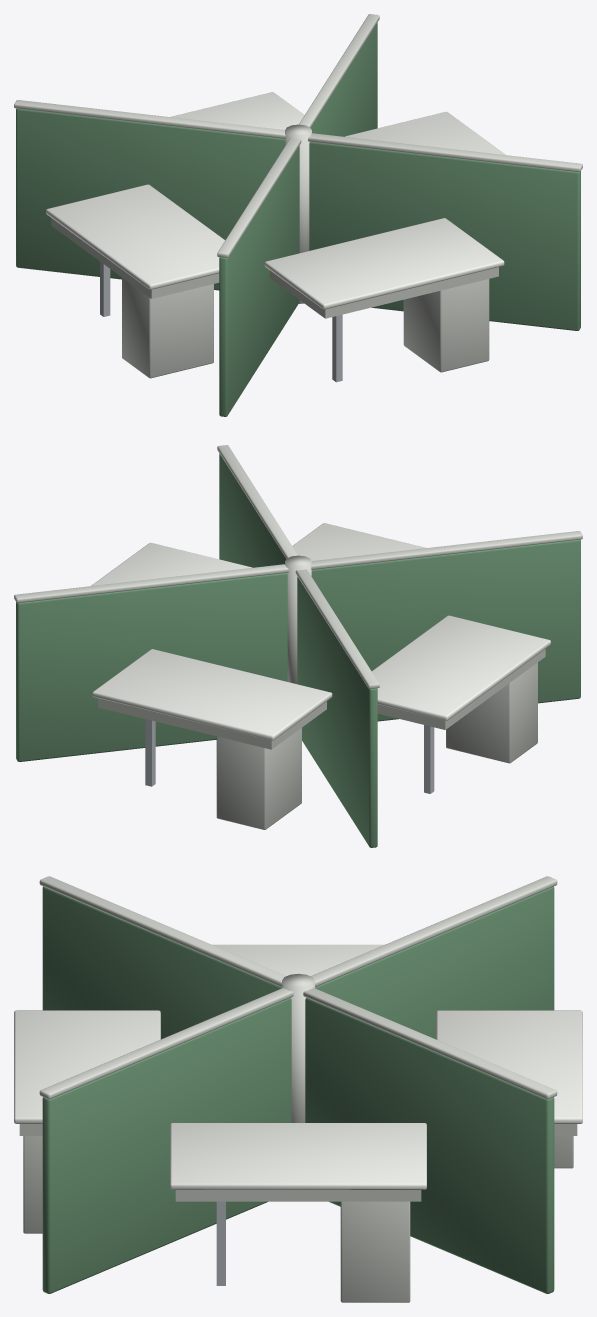
The model's file is desk_pod.gltf.
The picture shows the model from 3 angles, top to bottom: view 1: azimuth 30°, elevation 25°; view 2: azimuth 150°, elevation 25°; view 3: azimuth 270°, elevation 25°; orthographic projection. The views are drawn at different scales.
Parts seen in each view (by area): view 1: desk_pod_mesh; view 2: desk_pod_mesh; view 3: desk_pod_mesh.
Boxes of the visible parts, x1,y1,x2,y2 form: desk_pod_mesh: [14, 14, 582, 416]; desk_pod_mesh: [14, 445, 582, 847]; desk_pod_mesh: [14, 876, 582, 1302].
Size of the model in its own units: 3.1 by 1.24 by 3.1.
